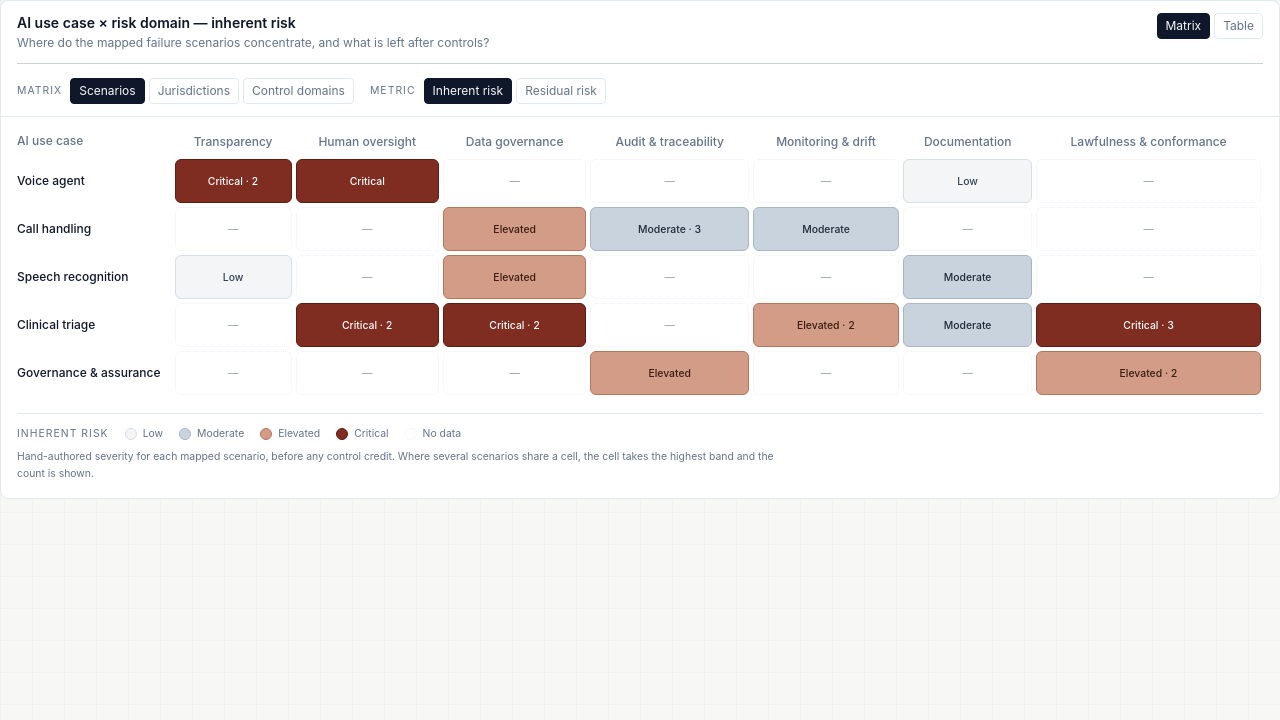
Test: RiskMatrix › explains an empty cell instead of showing a zero score
Click the button named "AI use case Voice agent, Risk domain Data governance. No data.".
click(515, 181)  # box [443, 159, 586, 203]
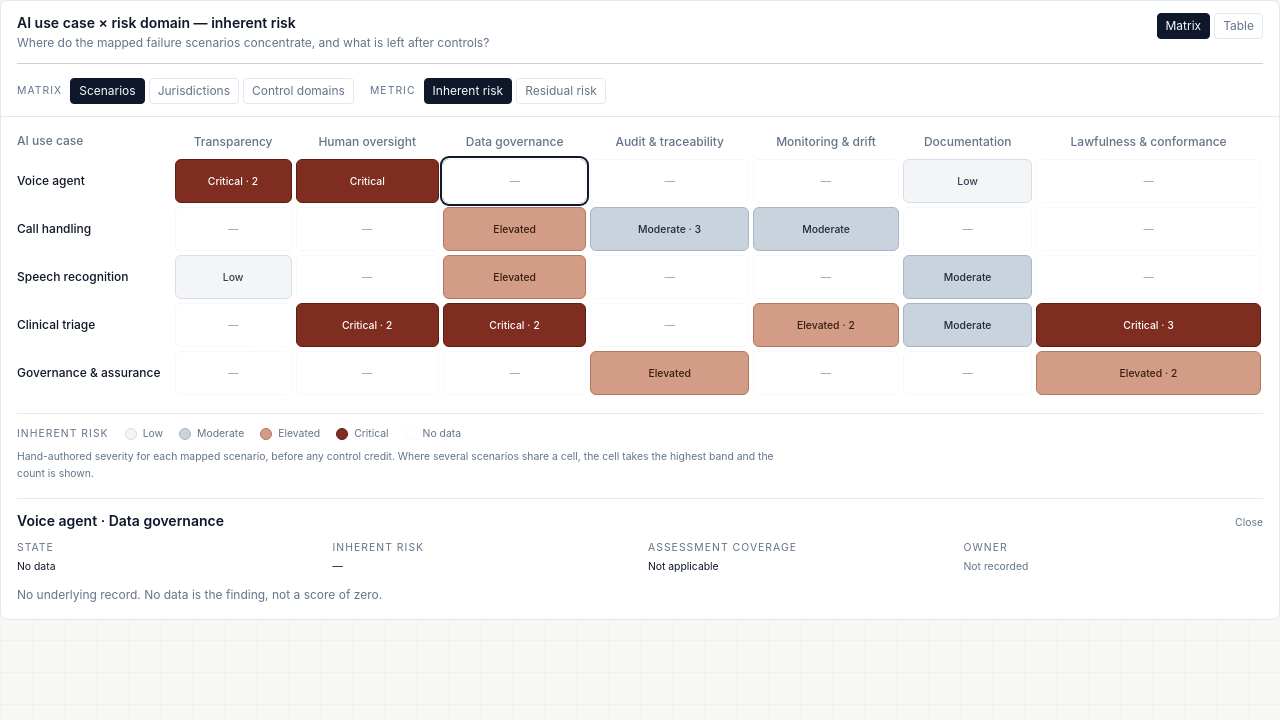
Expected: the text "No data is the finding, not a score of zero." is shown, [17, 587, 382, 602]
